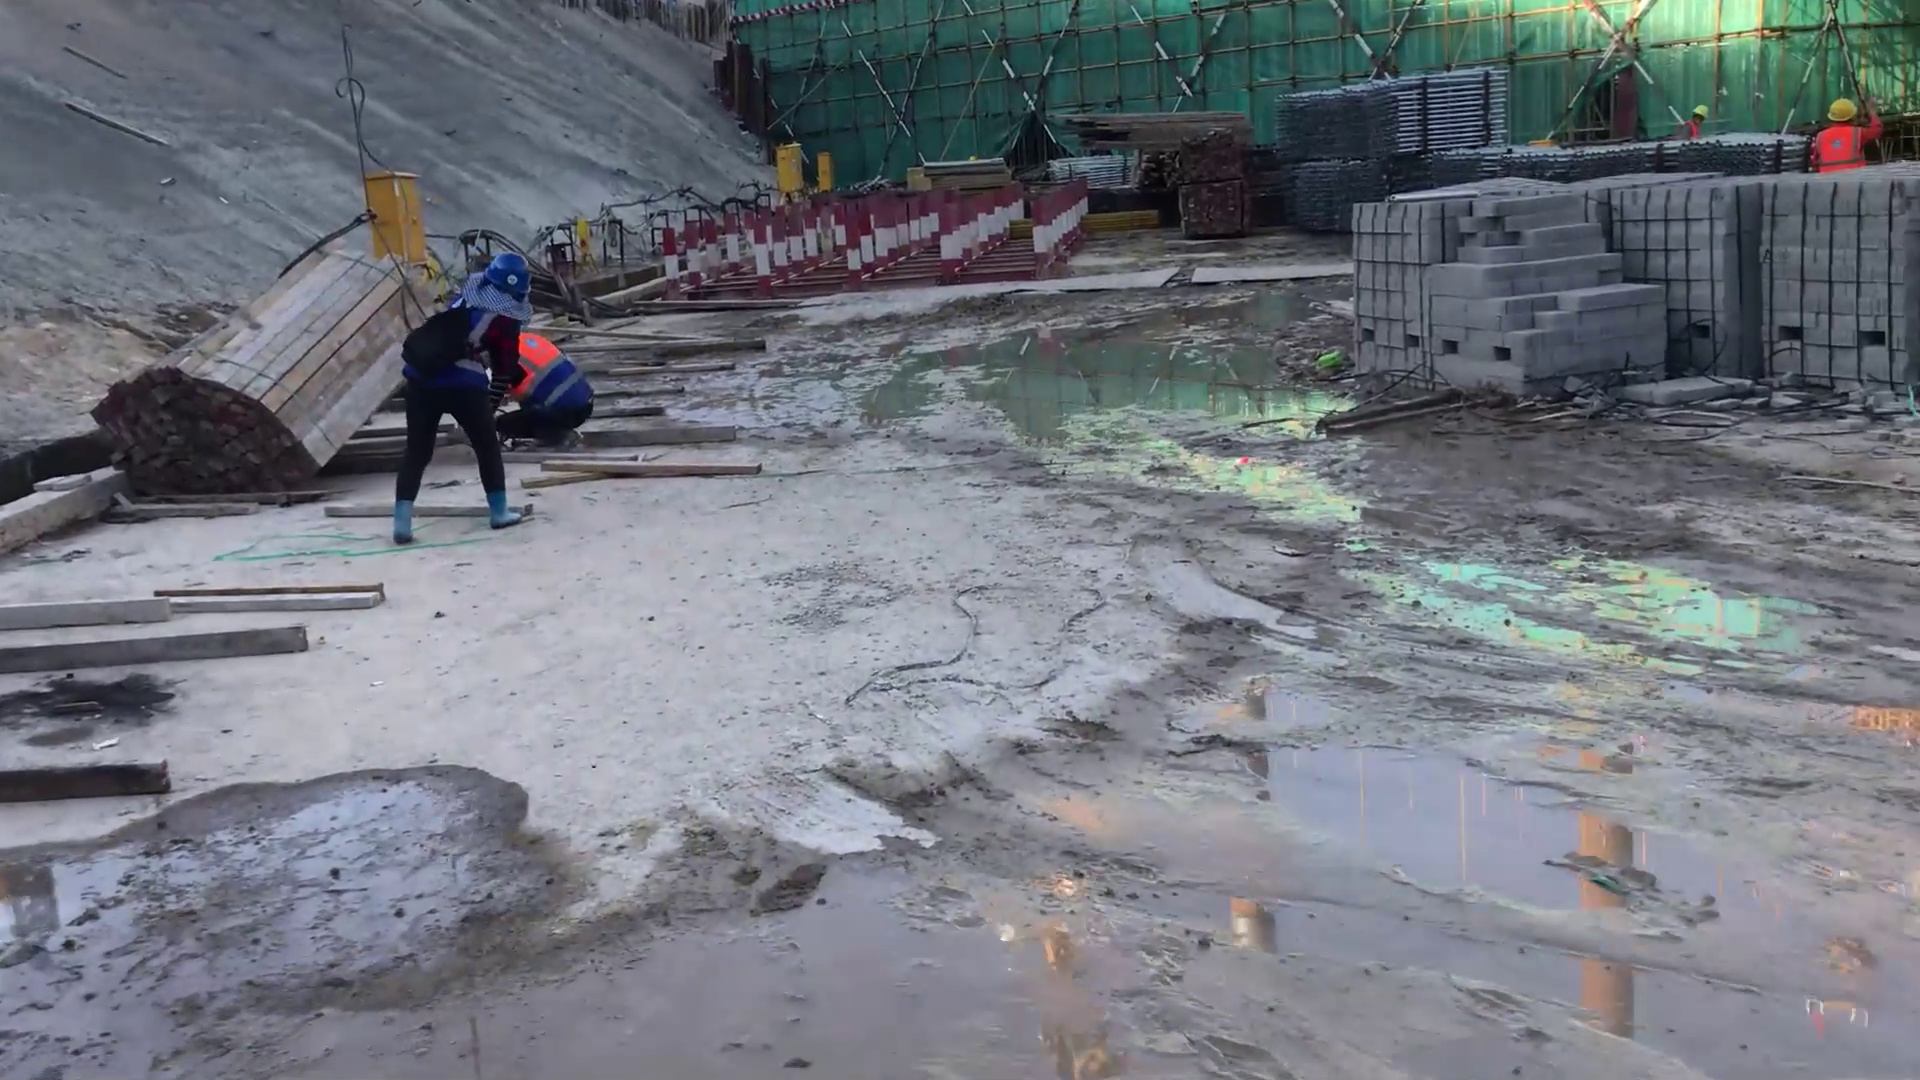brick: (1319, 183, 1920, 411)
ebox: (363, 168, 436, 245), (772, 140, 809, 195), (813, 149, 838, 194)
helmet: (462, 251, 544, 326), (1821, 97, 1855, 123), (1693, 106, 1716, 125)
person: (393, 242, 527, 539), (1801, 93, 1888, 179), (1673, 99, 1710, 141)
scaffold: (1273, 78, 1499, 160)
vest: (519, 334, 569, 382), (1815, 129, 1865, 171)
wood: (101, 227, 364, 498), (1045, 89, 1241, 163)
